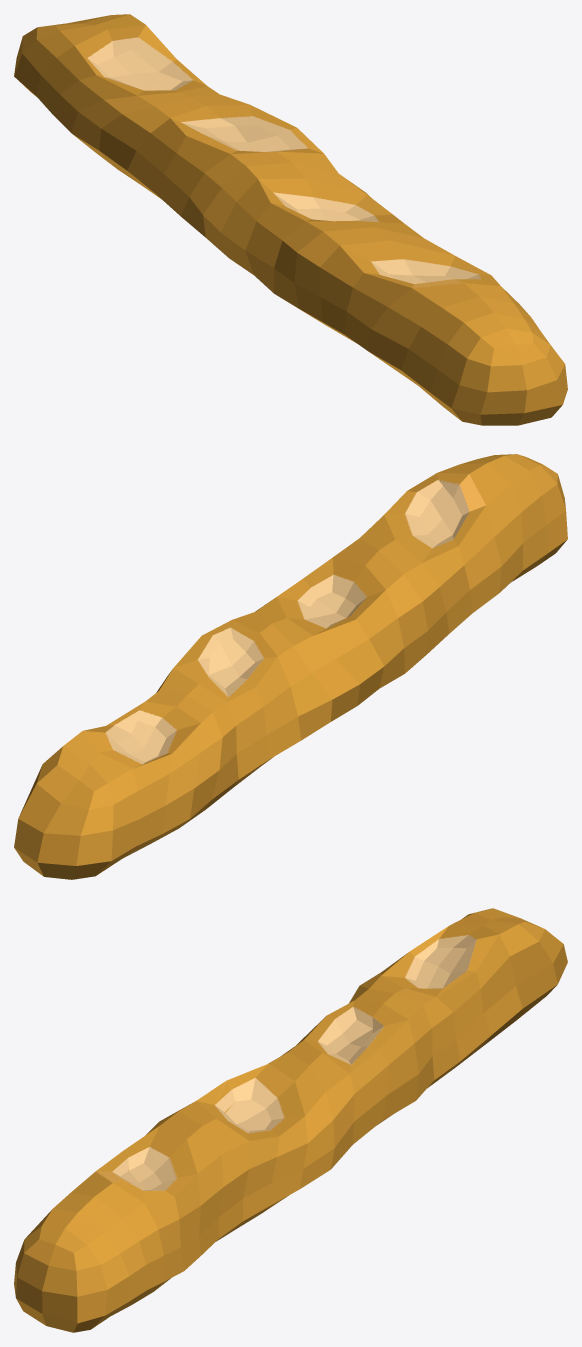
File: baguette 1.fbx
3 renders of one model, top to bottom at view 1: azimuth 30°, elevation 25°; view 2: azimuth 150°, elevation 25°; view 3: azimuth 330°, elevation 25°, orthographic. The views are drawn at different scales.
Parts seen in each view (by area): view 1: Cube; view 2: Cube; view 3: Cube.
Part boxes in pixels (x1=…): Cube: x1=14, y1=14, x2=567, y2=425; Cube: x1=14, y1=454, x2=567, y2=879; Cube: x1=14, y1=908, x2=567, y2=1332.
Bounding box in the file's own units: 304 × 225 × 1901.
1 material, 1 textured.
